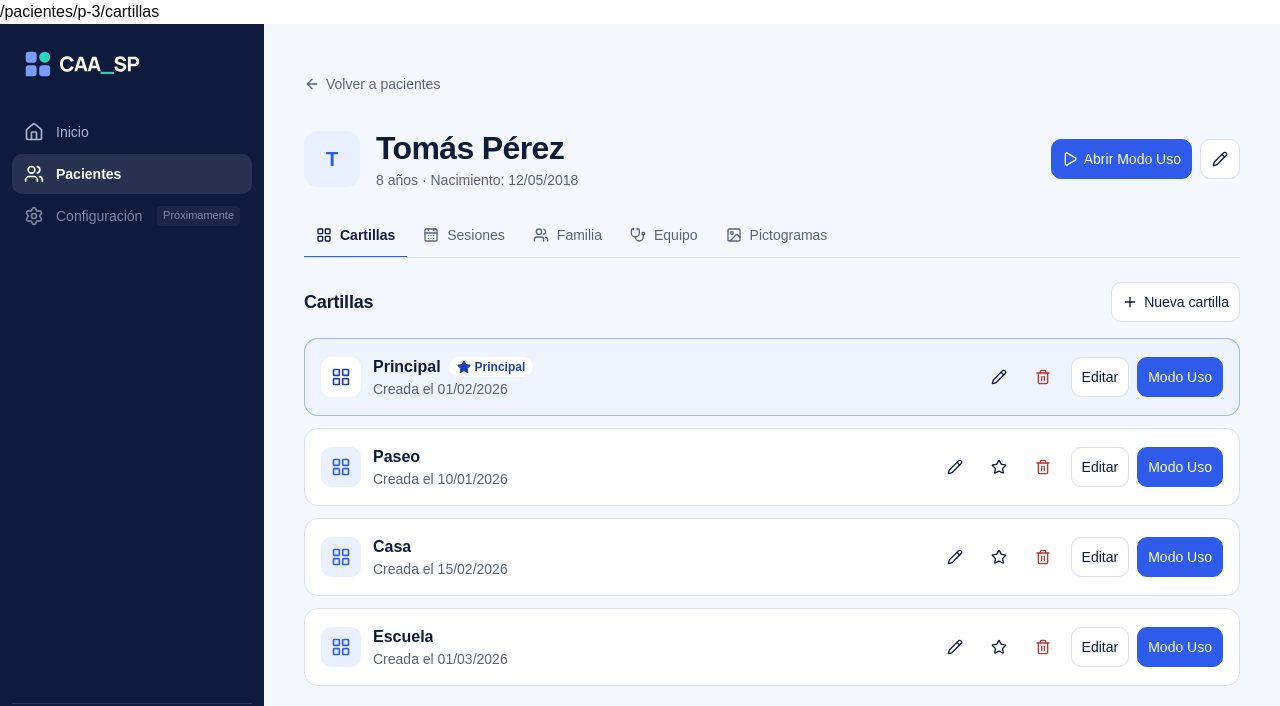
Test case: BoardsPage cartilla CRUD › create › shows the 404 permission message inline
Expected: the heading "Tomás Pérez" is shown, [376, 128, 578, 168]
Click the button "Nueva cartilla" at [1176, 302], box [1111, 282, 1240, 322]
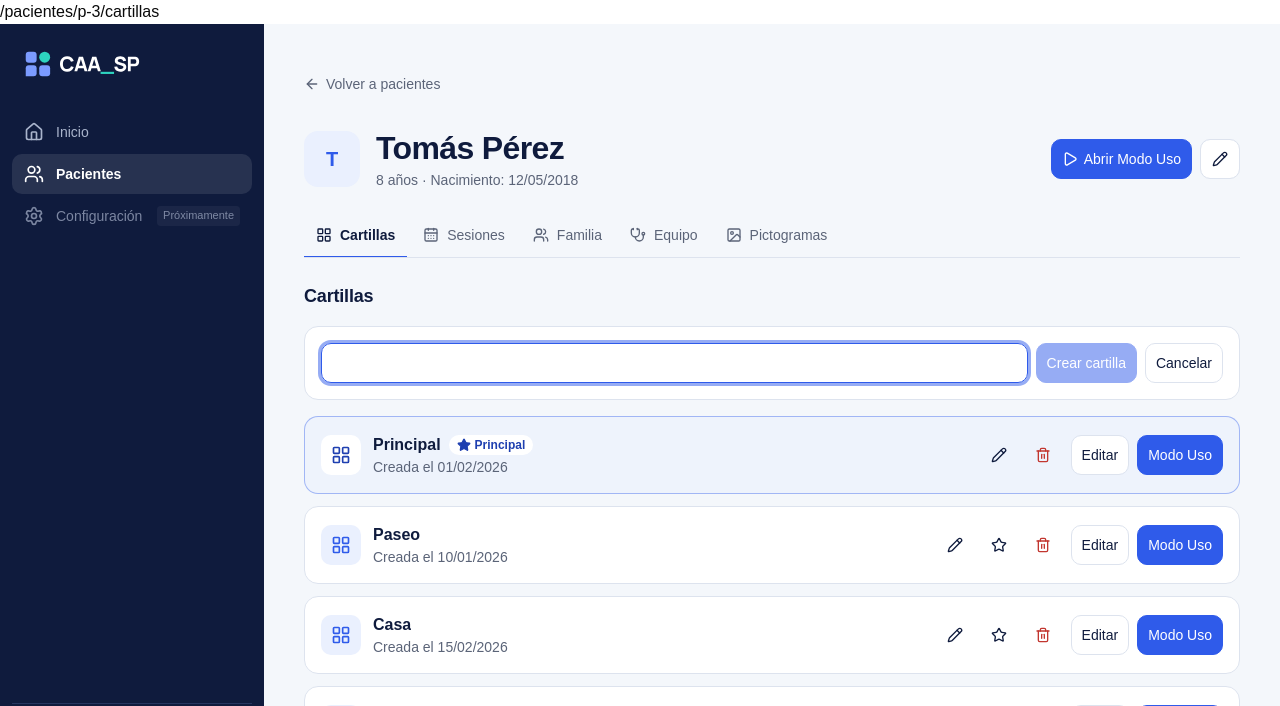
Type "Otra" into the field named "Nombre de la nueva cartilla" at [674, 363], box [321, 343, 1028, 383]
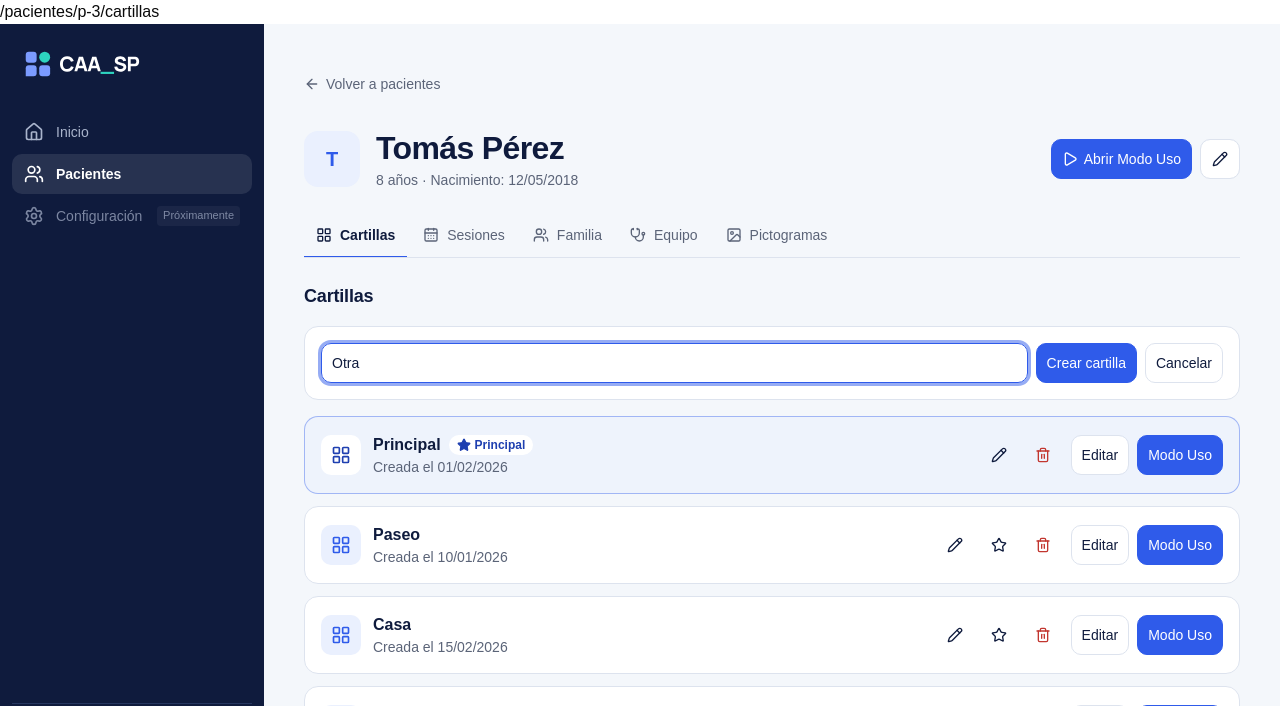
Click the button "Crear cartilla" at [1086, 363], box [1036, 343, 1137, 383]
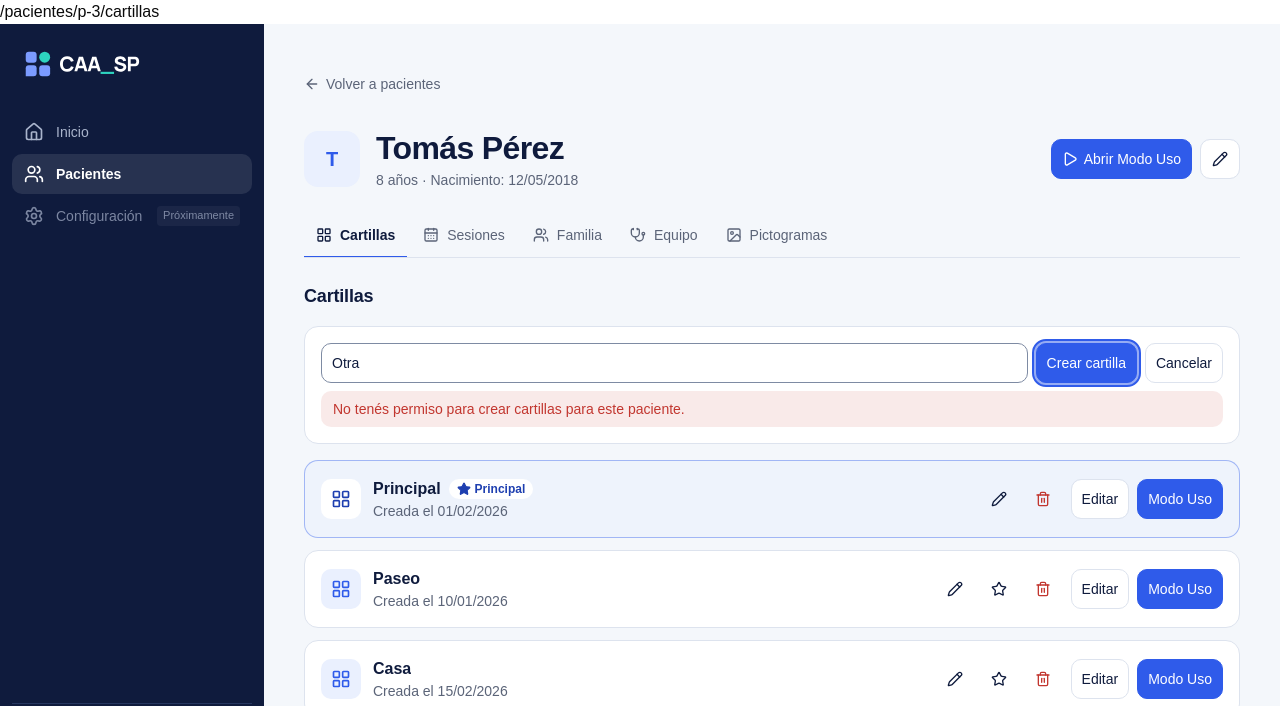
Expected: the message reads "No tenés permiso para crear cartillas para este paciente.", [333, 401, 685, 417]
